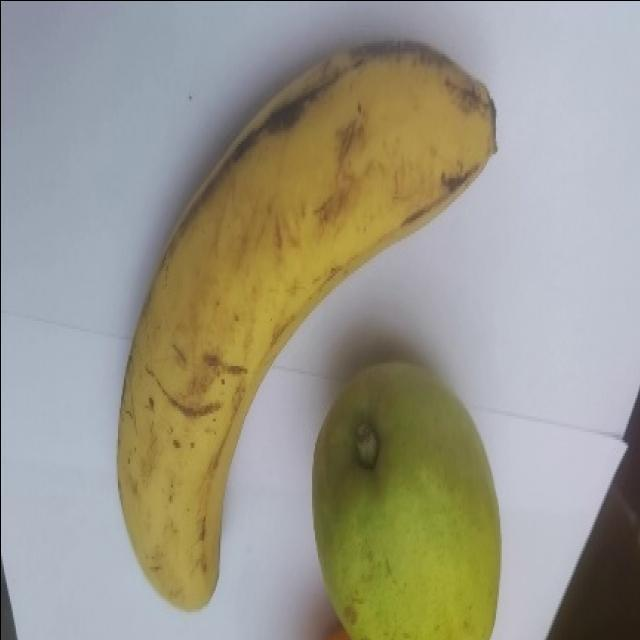Banana: (115, 38, 497, 612)
